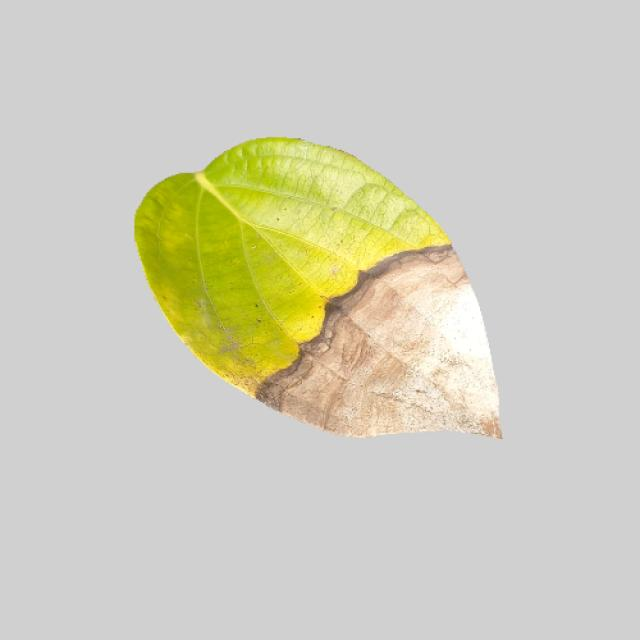leaf-blight: (128, 136, 504, 443)
